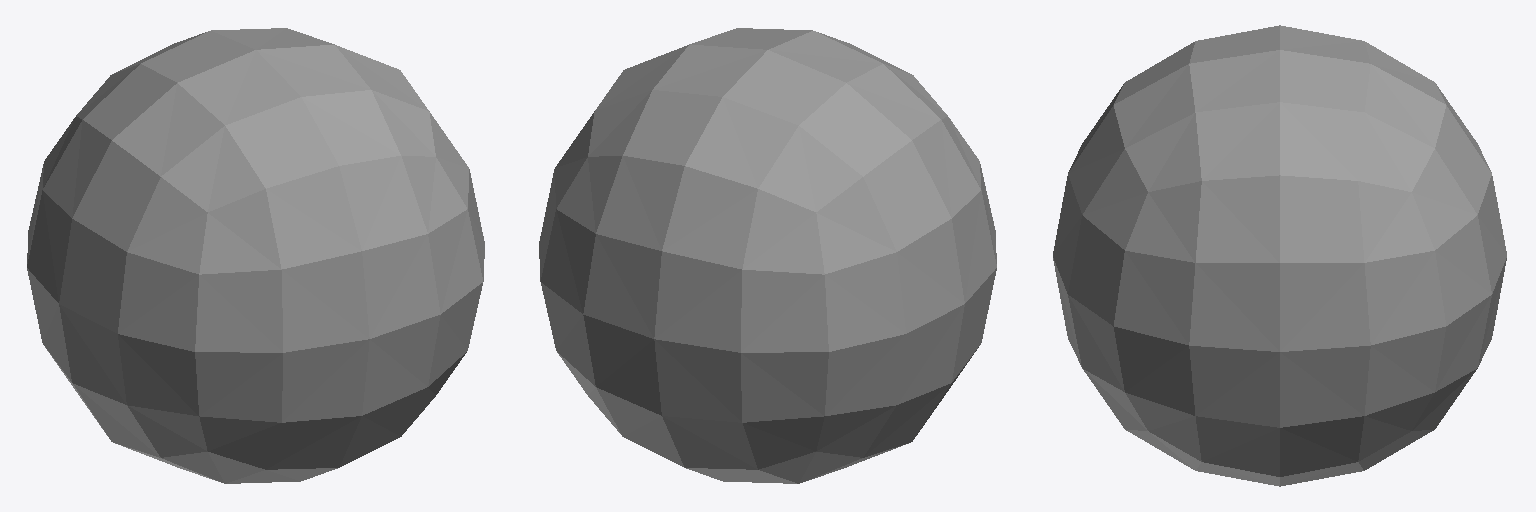
Rendered from projectile.obj.
3 renders of one model, left to right at view 1: azimuth 30°, elevation 25°; view 2: azimuth 150°, elevation 25°; view 3: azimuth 270°, elevation 25°, orthographic.
Parts seen in each view (by area): view 1: Cube; view 2: Cube; view 3: Cube.
Part boxes in pixels (x1,y1,x2,y2): Cube: (27,28,484,483); Cube: (539,28,996,483); Cube: (1053,25,1506,486).
Bounding box in the file's own units: 1.76 × 1.76 × 1.76.